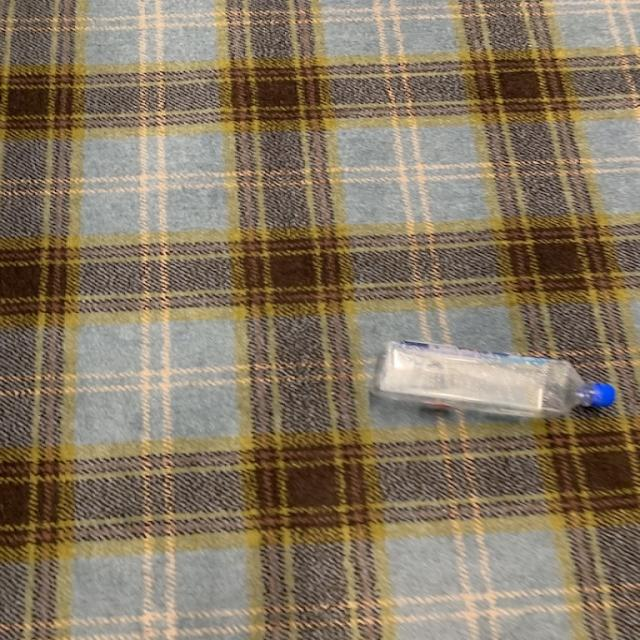Plastic: (372, 342, 618, 418)
